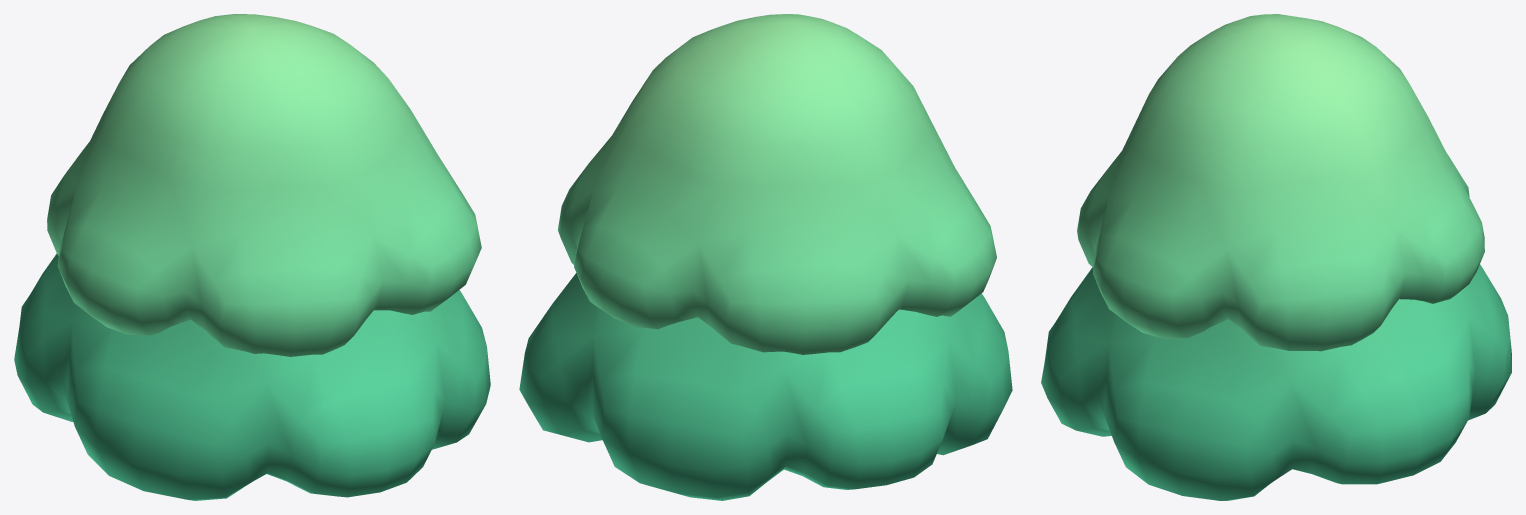
Rendered from custim tree.fbx.
The picture shows the model from 3 angles, left to right: view 1: azimuth 30°, elevation 25°; view 2: azimuth 150°, elevation 25°; view 3: azimuth 270°, elevation 25°; orthographic projection. The views are drawn at different scales.
Visible parts, largest first — view 1: Bush_C_02_LOD0; view 2: Bush_C_02_LOD0; view 3: Bush_C_02_LOD0.
Boxes of the visible parts, <box> form: Bush_C_02_LOD0: <box>14,14,490,500</box>; Bush_C_02_LOD0: <box>519,14,1012,500</box>; Bush_C_02_LOD0: <box>1041,14,1511,500</box>.
Size of the model in its own units: 437 by 437 by 465.
1 material, 1 textured.
